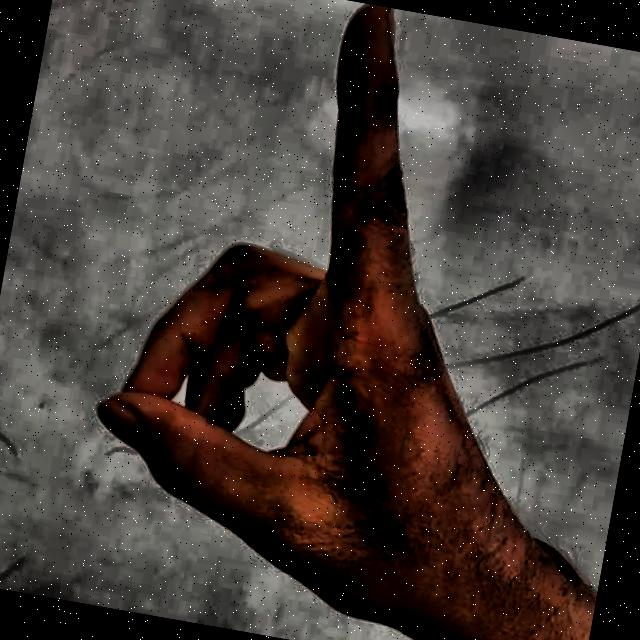Dha: (29, 0, 603, 640)
